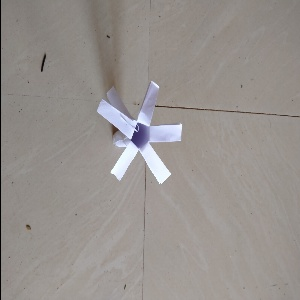weed: (94, 76, 180, 184)
